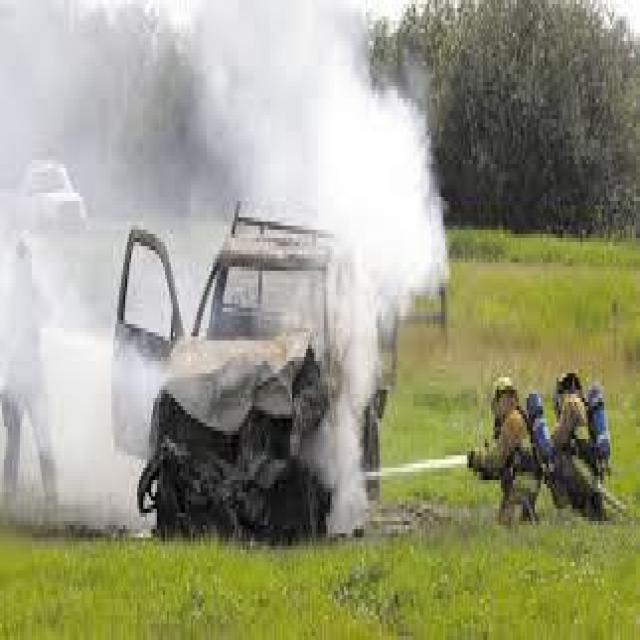smoke: (296, 40, 451, 445)
